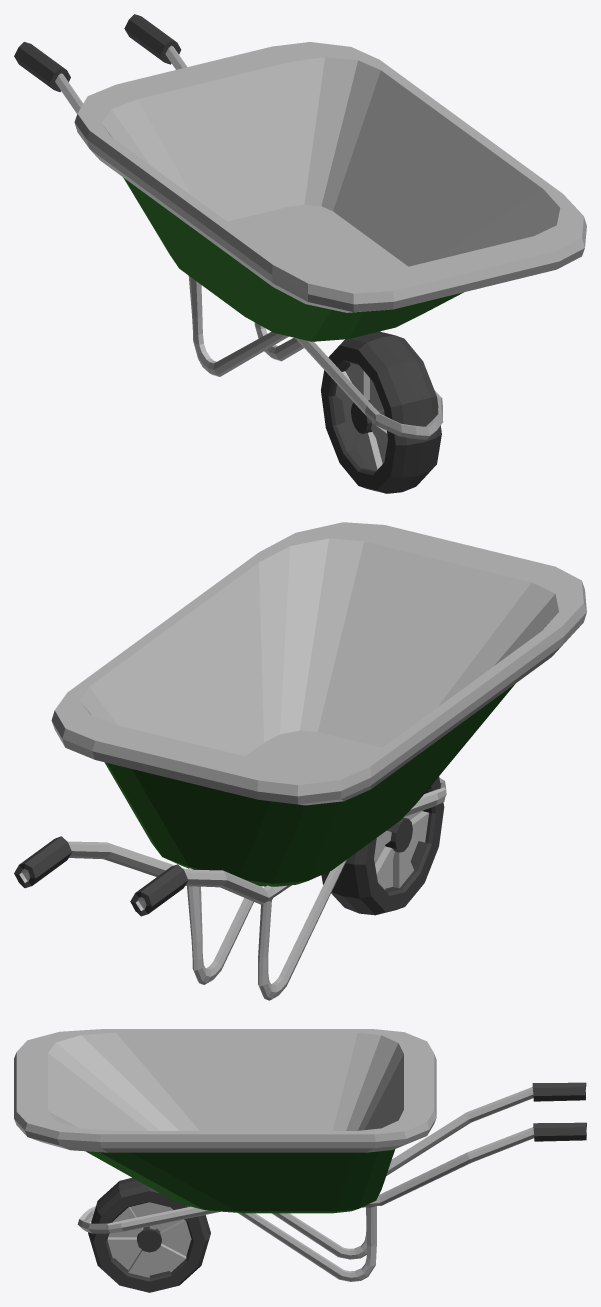
The model's file is Wheelbarrow.fbx.
3 views of the same model, one above another, from view 1: azimuth 30°, elevation 25°; view 2: azimuth 150°, elevation 25°; view 3: azimuth 270°, elevation 25° (orthographic). The views are drawn at different scales.
Parts seen in each view (by area): view 1: Wheelbarrow; view 2: Wheelbarrow; view 3: Wheelbarrow.
Boxes of the visible parts, x1,y1,x2,y2 form: Wheelbarrow: [14, 14, 586, 493]; Wheelbarrow: [14, 522, 586, 1000]; Wheelbarrow: [14, 1029, 586, 1292].
Size of the model in its own units: 108 by 98.86 by 246.
